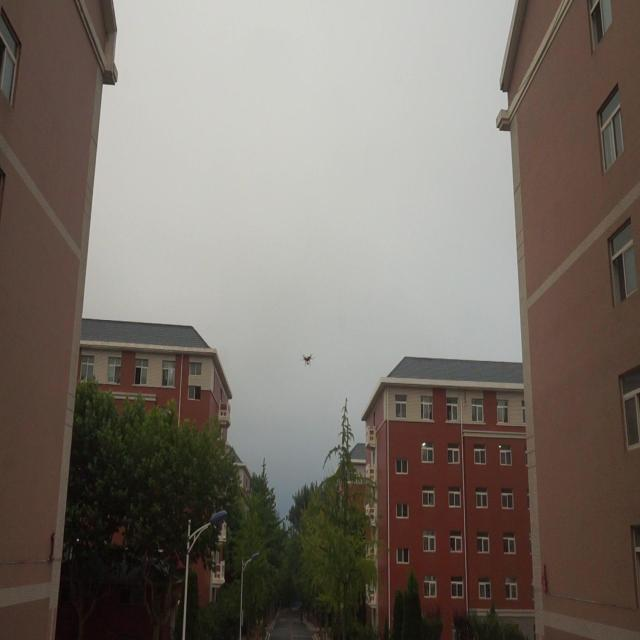drone: (300, 351, 314, 369)
